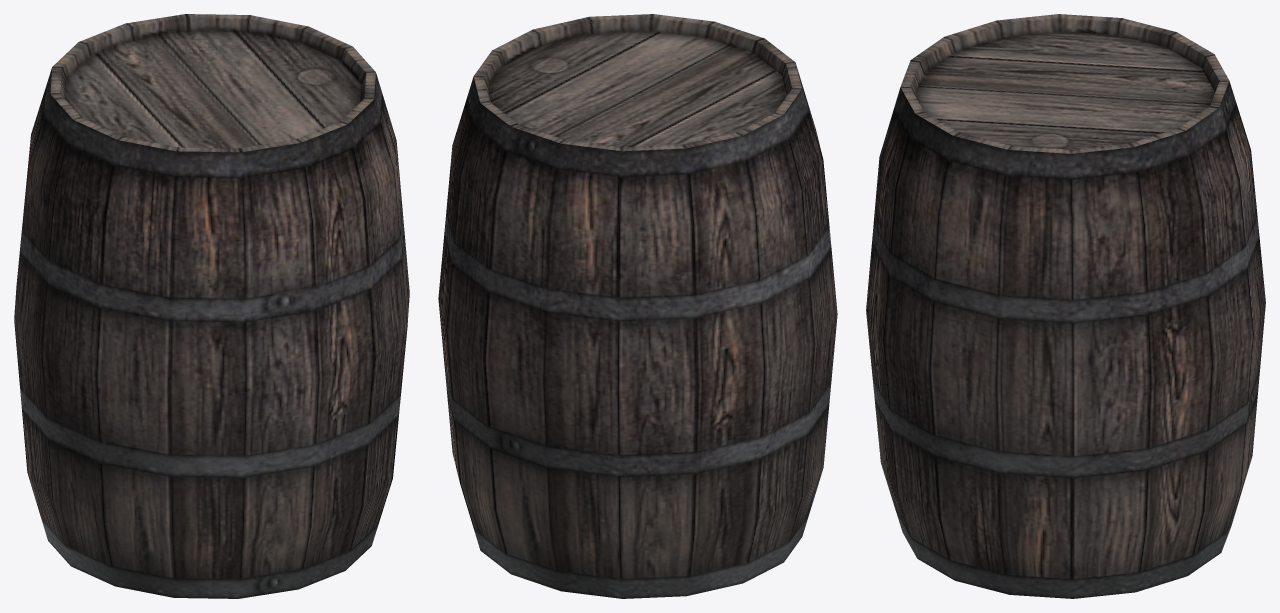
Rendered from Barrel_LOD01.fbx.
3 views of the same model, side by side, from view 1: azimuth 30°, elevation 25°; view 2: azimuth 150°, elevation 25°; view 3: azimuth 270°, elevation 25° (orthographic).
Visible parts, largest first — view 1: Mesh Object; view 2: Mesh Object; view 3: Mesh Object.
Boxes of the visible parts, x1,y1,x2,y2 form: Mesh Object: [14, 14, 409, 598]; Mesh Object: [438, 14, 837, 598]; Mesh Object: [866, 14, 1265, 598].
Size of the model in its own units: 0.8855 by 1.09 by 0.8855.
